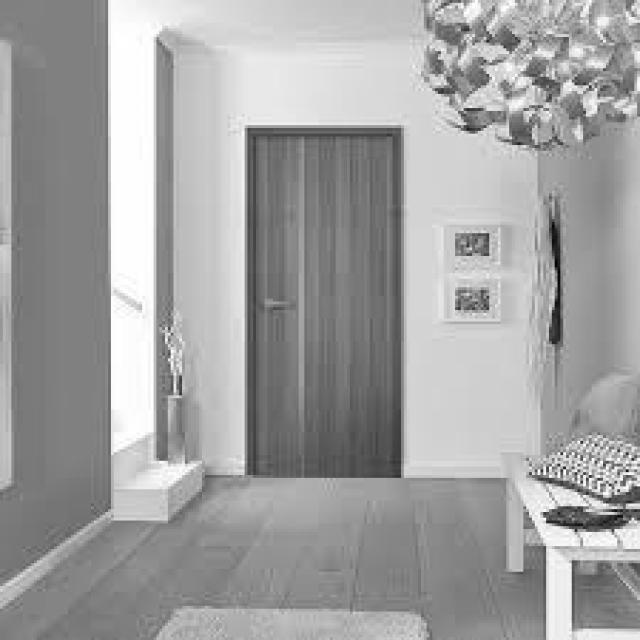door: (226, 109, 413, 487)
